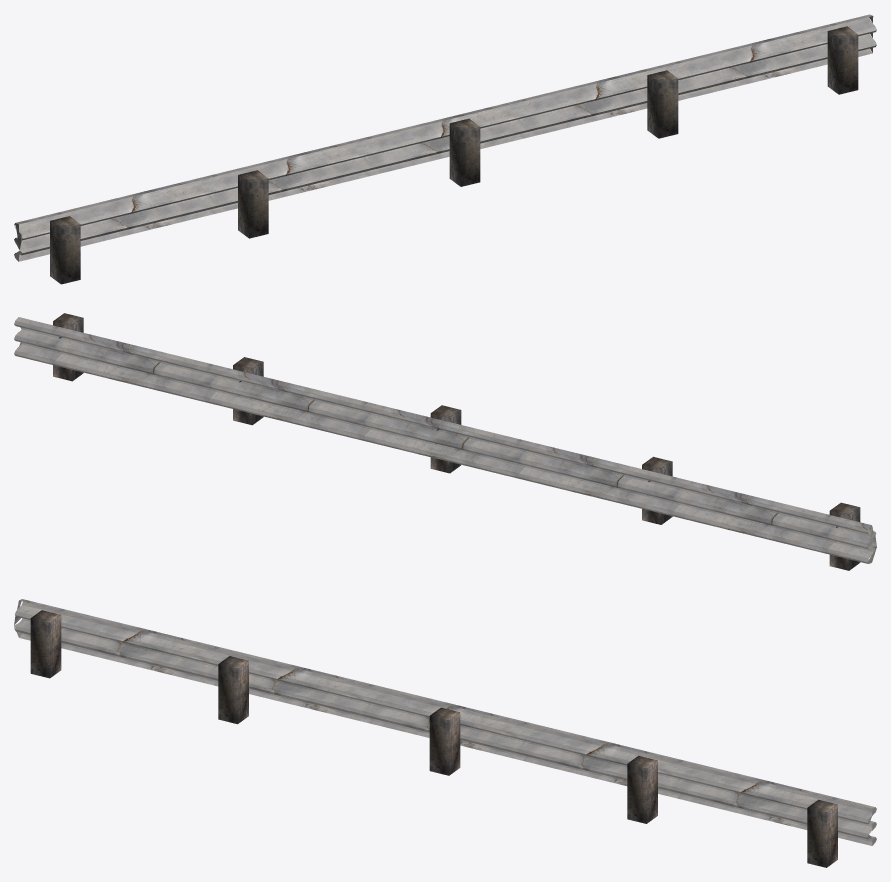
The model's file is roadrail_straight_2.fbx.
The picture shows the model from 3 angles, top to bottom: view 1: azimuth 30°, elevation 25°; view 2: azimuth 150°, elevation 25°; view 3: azimuth 330°, elevation 25°; orthographic projection.
Parts seen in each view (by area): view 1: rail, posts; view 2: rail, posts; view 3: rail, posts.
Boxes of the visible parts, bbox=[...] form: rail: bbox=[14, 14, 876, 261]; posts: bbox=[50, 26, 858, 284]; rail: bbox=[14, 317, 876, 563]; posts: bbox=[53, 313, 860, 570]; rail: bbox=[14, 599, 876, 845]; posts: bbox=[30, 610, 837, 867].
Size of the model in its own units: 10.99 by 0.6811 by 0.4496.
